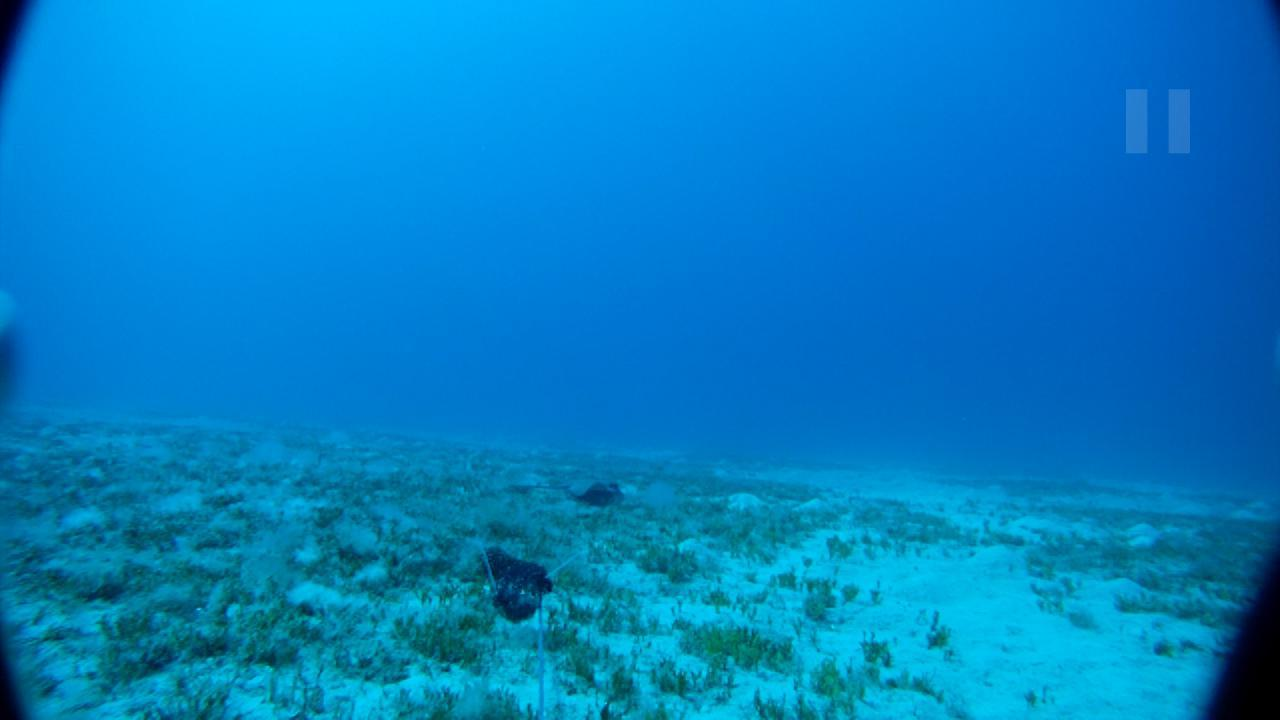dasyatis: (516, 480, 620, 499)
